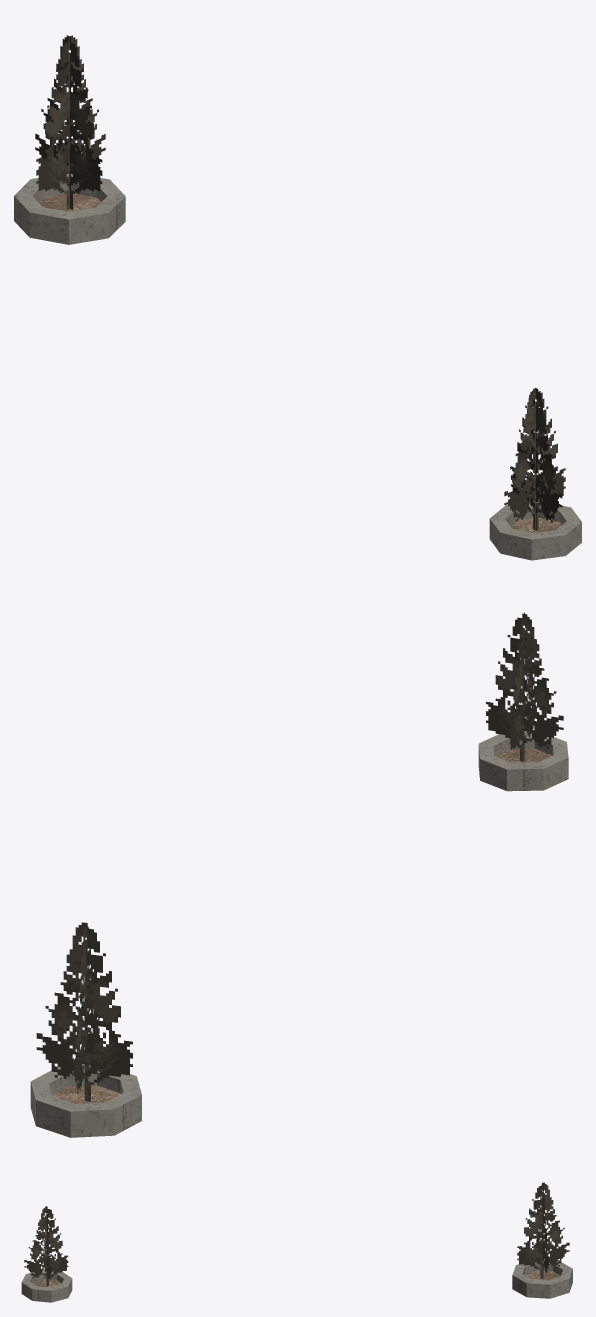
File: procgen-procpain-tree-park-pine-large-x2zm1.obj
3 views of the same model, one above another, from view 1: azimuth 30°, elevation 25°; view 2: azimuth 150°, elevation 25°; view 3: azimuth 270°, elevation 25° (orthographic). The views are drawn at different scales.
Size of the model in its own units: 8.4 by 11.06 by 55.17.
